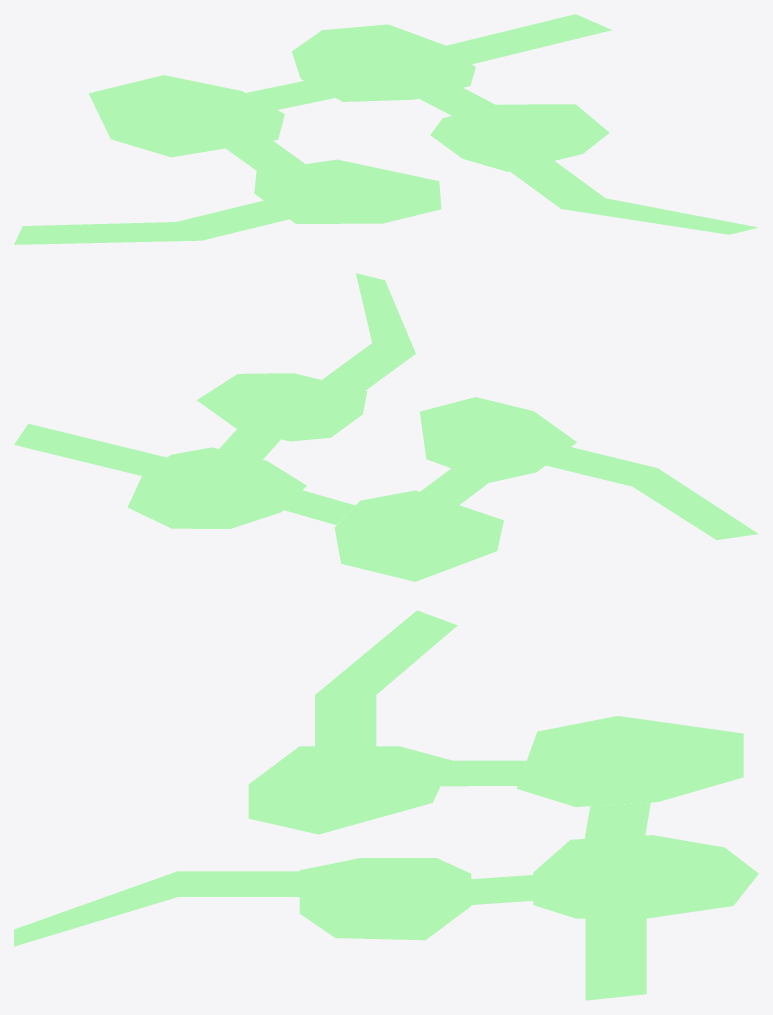
File: s01b_tc3-floor.glb
The picture shows the model from 3 angles, top to bottom: view 1: azimuth 30°, elevation 25°; view 2: azimuth 150°, elevation 25°; view 3: azimuth 270°, elevation 25°; orthographic projection. The views are drawn at different scales.
Parts seen in each view (by area): view 1: collision_floor-colonly; view 2: collision_floor-colonly; view 3: collision_floor-colonly.
Boxes of the visible parts, x1=… form: collision_floor-colonly: x1=14, y1=14, x2=757, y2=244; collision_floor-colonly: x1=14, y1=273, x2=757, y2=581; collision_floor-colonly: x1=14, y1=610, x2=758, y2=1000.
Bounding box in the file's own units: 90.5 × 0 × 73.
